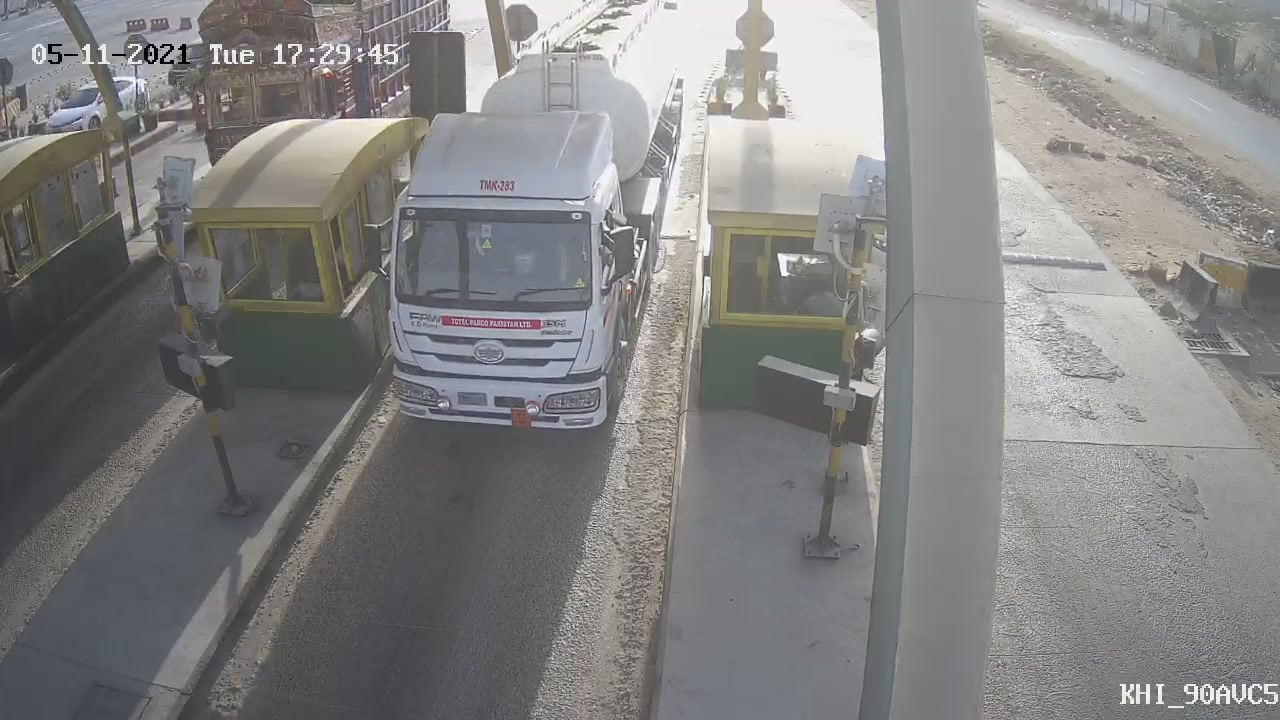F6: (342, 1, 704, 460)
